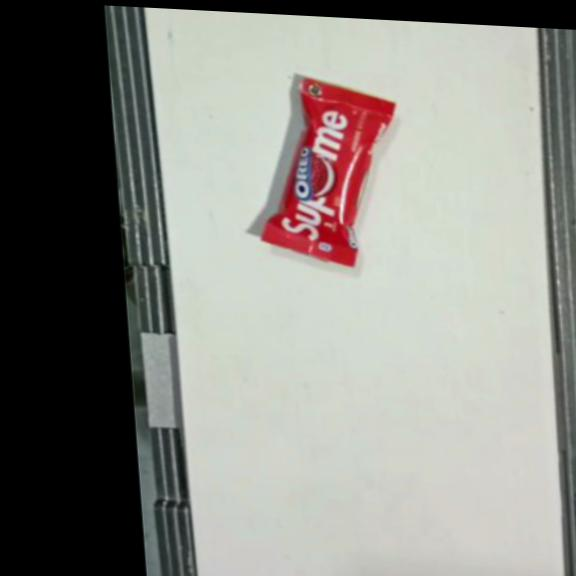Plastik: (248, 75, 408, 270)
